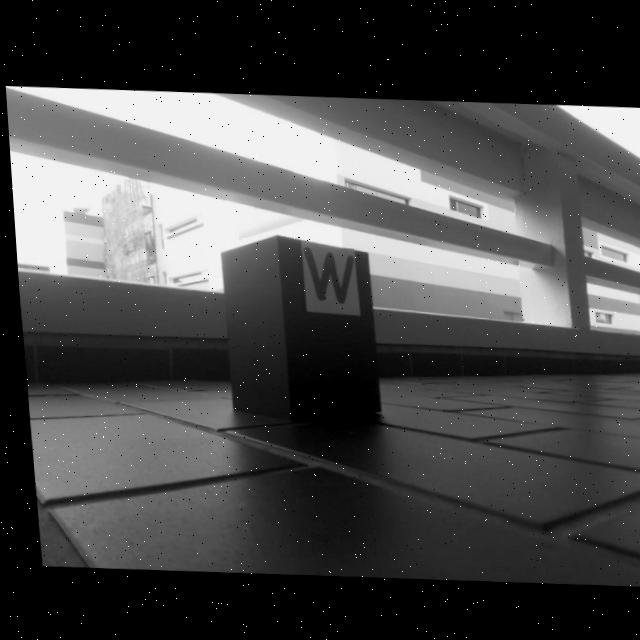W: (299, 244, 351, 301)
